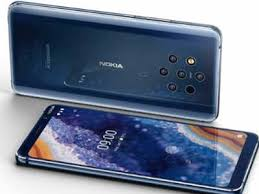nokia: (6, 1, 220, 123)
